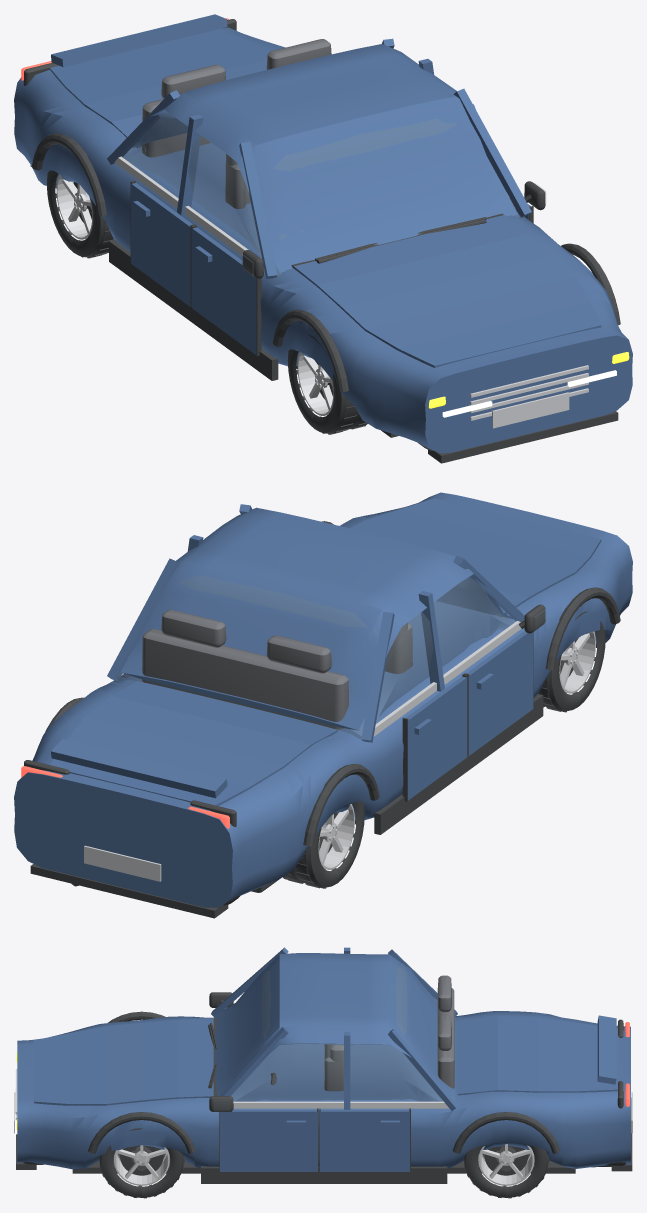
The model's file is type_saloon.glb.
3 renders of one model, top to bottom at view 1: azimuth 30°, elevation 25°; view 2: azimuth 150°, elevation 25°; view 3: azimuth 270°, elevation 25°, orthographic. The views are drawn at different scales.
Parts seen in each view (by area): view 1: saloon, bonnet, boot, door-front-left, door-rear-left, wheel-front-left/trim, wheel-rear-left/trim, wheel-rear-left/alloy, wheel-front-left/alloy; view 2: saloon, boot, bonnet, door-front-left, door-rear-left, wheel-rear-left/trim, wheel-front-left/trim, wheel-rear-left/alloy, wheel-front-left/alloy; view 3: saloon, bonnet, boot, door-front-right, door-rear-right, wheel-rear-right/trim, wheel-front-right/trim, wheel-rear-right/alloy, wheel-front-right/alloy.
Boxes of the visible parts, x1=… form: saloon: x1=14, y1=14, x2=632, y2=463; bonnet: x1=294, y1=215, x2=601, y2=367; boot: x1=50, y1=29, x2=272, y2=148; door-front-left: x1=192, y1=227, x2=256, y2=355; door-rear-left: x1=131, y1=183, x2=192, y2=306; wheel-front-left/trim: x1=287, y1=334, x2=367, y2=434; wheel-rear-left/trim: x1=47, y1=170, x2=114, y2=258; wheel-rear-left/alloy: x1=56, y1=174, x2=92, y2=239; wheel-front-left/alloy: x1=297, y1=352, x2=333, y2=415; saloon: x1=14, y1=492, x2=632, y2=918; boot: x1=50, y1=681, x2=337, y2=805; bonnet: x1=350, y1=498, x2=601, y2=614; door-front-left: x1=466, y1=631, x2=533, y2=755; door-rear-left: x1=406, y1=676, x2=467, y2=800; wheel-rear-left/trim: x1=283, y1=801, x2=364, y2=888; wheel-front-left/trim: x1=538, y1=611, x2=605, y2=712; wheel-rear-left/alloy: x1=318, y1=804, x2=354, y2=869; wheel-front-left/alloy: x1=559, y1=631, x2=595, y2=693; saloon: x1=14, y1=947, x2=632, y2=1183; bonnet: x1=34, y1=1018, x2=213, y2=1105; boot: x1=457, y1=1016, x2=619, y2=1095; door-front-right: x1=220, y1=1110, x2=317, y2=1171; door-rear-right: x1=320, y1=1110, x2=409, y2=1171; wheel-rear-right/trim: x1=463, y1=1145, x2=549, y2=1198; wheel-front-right/trim: x1=99, y1=1128, x2=184, y2=1198; wheel-rear-right/alloy: x1=478, y1=1144, x2=534, y2=1185; wheel-front-right/alloy: x1=114, y1=1145, x2=169, y2=1185.
Size of the model in its own units: 2 by 1.4 by 4.82.
